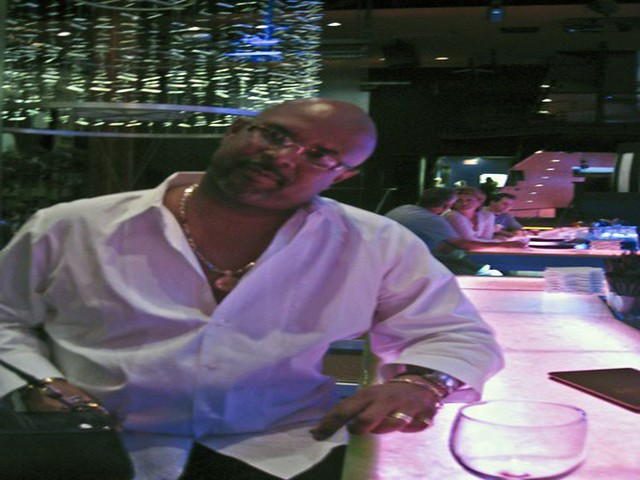Person: (4, 86, 413, 451), (421, 184, 531, 240)
